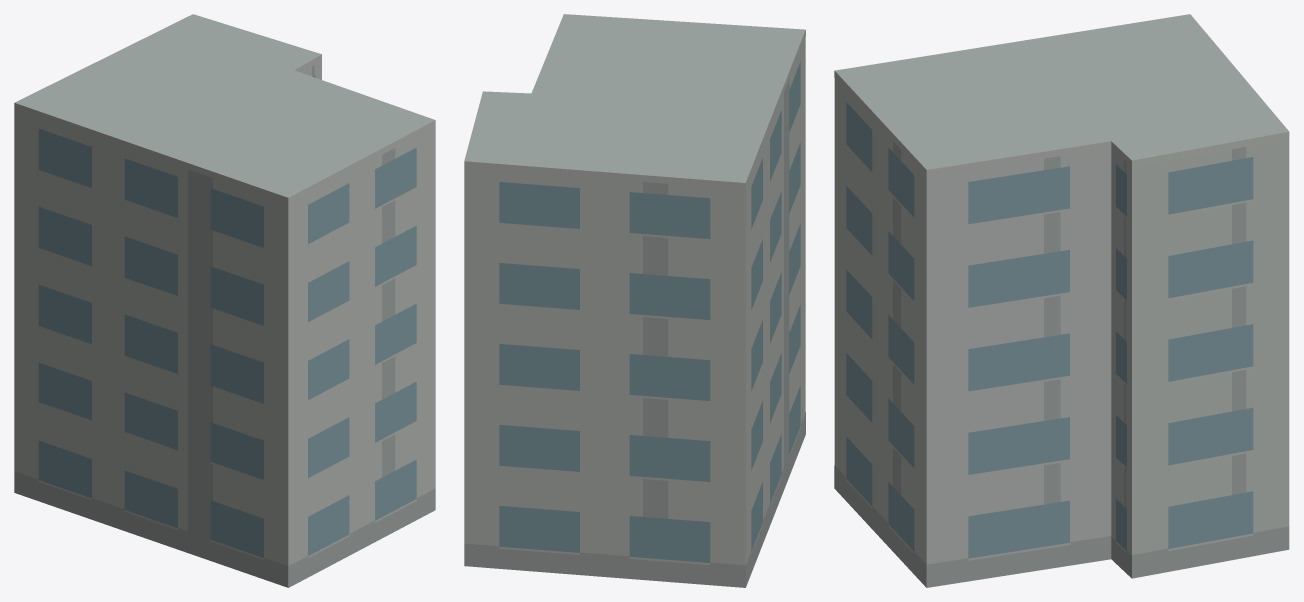
The model's file is survey-upis-32965673.glb.
3 views of the same model, side by side, from view 1: azimuth 30°, elevation 25°; view 2: azimuth 150°, elevation 25°; view 3: azimuth 270°, elevation 25° (orthographic). The views are drawn at different scales.
Parts seen in each view (by area): view 1: survey-upis-32965673.tmp; view 2: survey-upis-32965673.tmp; view 3: survey-upis-32965673.tmp.
Boxes of the visible parts, x1=… form: survey-upis-32965673.tmp: x1=14, y1=14, x2=435, y2=587; survey-upis-32965673.tmp: x1=464, y1=14, x2=805, y2=587; survey-upis-32965673.tmp: x1=834, y1=14, x2=1289, y2=587.
Size of the model in its own units: 11.65 by 14.55 by 14.36.
